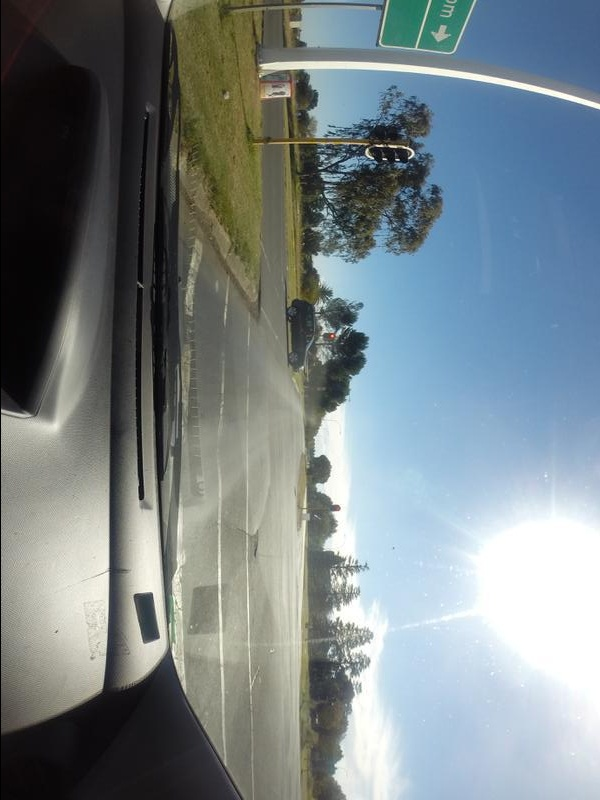pothole: (249, 527, 259, 562)
